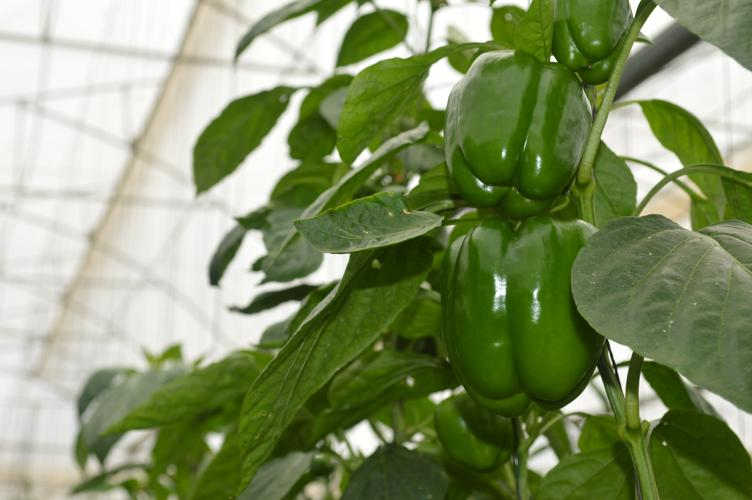BellPepper: (433, 221, 605, 407), (443, 53, 587, 212), (547, 3, 626, 82), (433, 400, 512, 469)
